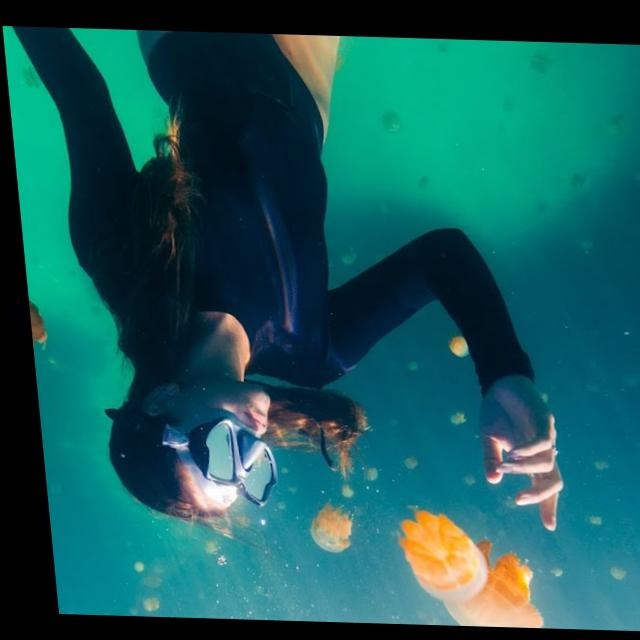human: (2, 26, 578, 577)
